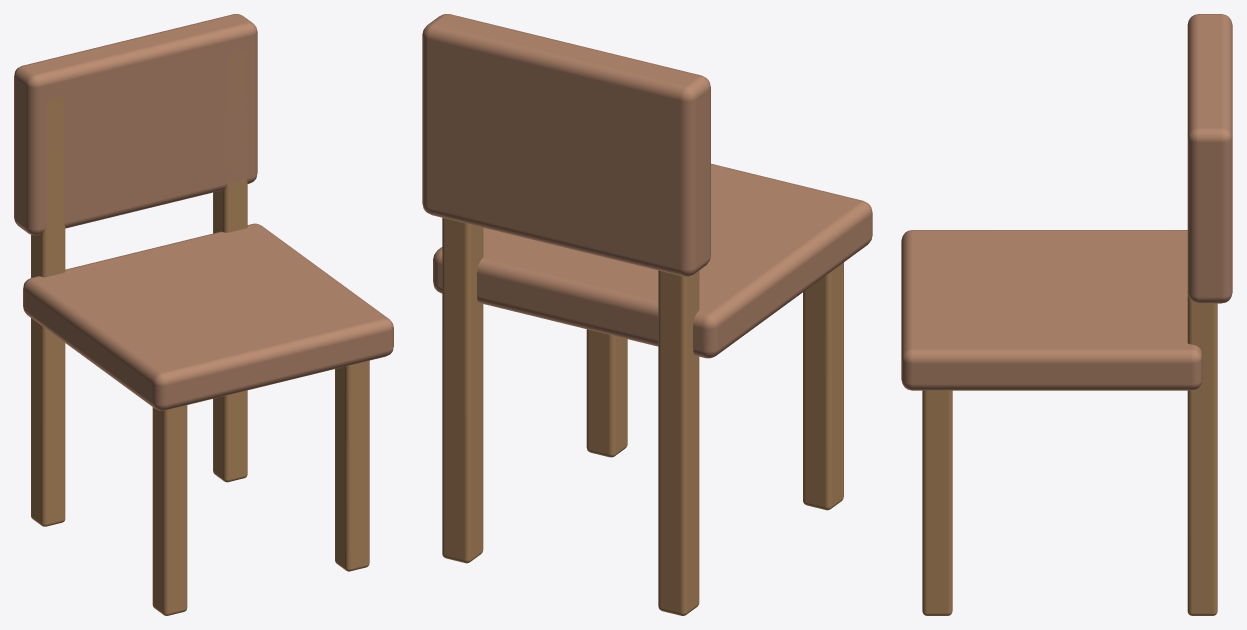
Rendered from chair.glb.
The picture shows the model from 3 angles, left to right: view 1: azimuth 30°, elevation 25°; view 2: azimuth 150°, elevation 25°; view 3: azimuth 270°, elevation 25°; orthographic projection. The views are drawn at different scales.
Parts seen in each view (by area): view 1: poc-chair-part-19, poc-chair-part-20, poc-chair-part-21, poc-chair-part-22, poc-chair-part-24, poc-chair-part-23; view 2: poc-chair-part-20, poc-chair-part-19, poc-chair-part-21, poc-chair-part-23, poc-chair-part-22, poc-chair-part-24; view 3: poc-chair-part-19, poc-chair-part-20, poc-chair-part-23, poc-chair-part-24.
Boxes of the visible parts, box(x1,y1,x2,y2) form: poc-chair-part-19: box(23, 223, 393, 410); poc-chair-part-20: box(14, 14, 257, 235); poc-chair-part-21: box(31, 96, 65, 526); poc-chair-part-22: box(152, 405, 187, 615); poc-chair-part-24: box(335, 360, 369, 571); poc-chair-part-23: box(213, 52, 247, 482); poc-chair-part-20: box(422, 14, 710, 276); poc-chair-part-19: box(433, 163, 872, 358); poc-chair-part-21: box(658, 270, 699, 615); poc-chair-part-23: box(442, 218, 483, 563); poc-chair-part-22: box(803, 262, 843, 510); poc-chair-part-24: box(586, 329, 627, 457); poc-chair-part-19: box(901, 230, 1202, 390); poc-chair-part-20: box(1187, 14, 1232, 303); poc-chair-part-23: box(1187, 294, 1217, 615); poc-chair-part-24: box(922, 390, 952, 615).
Bounding box in the file's own units: 0.5 × 0.9 × 0.55.
